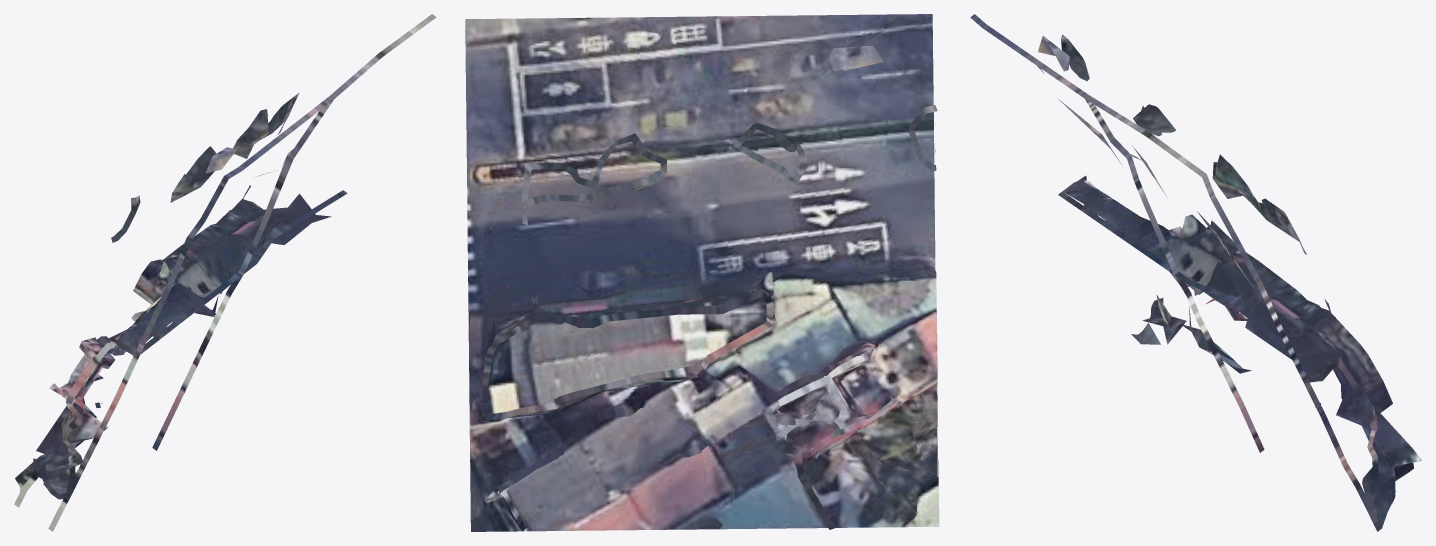
The picture shows the model from 3 angles, left to right: view 1: azimuth 30°, elevation 25°; view 2: azimuth 150°, elevation 25°; view 3: azimuth 270°, elevation 25°; orthographic projection. The views are drawn at different scales.
Size of the model in its own units: 39.72 by 34.81 by 35.28.
1 material, 1 textured.
